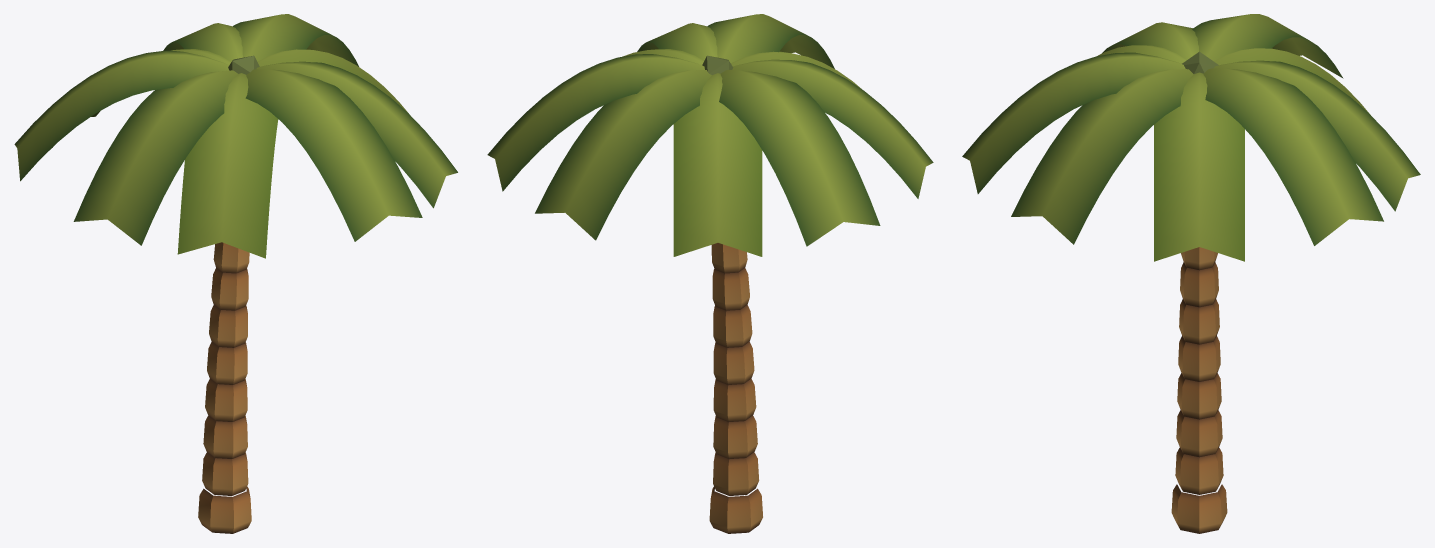
Rendered from palm-tall-v1.glb.
3 views of the same model, side by side, from view 1: azimuth 30°, elevation 25°; view 2: azimuth 150°, elevation 25°; view 3: azimuth 270°, elevation 25° (orthographic). The views are drawn at different scales.
Parts seen in each view (by area): view 1: palm-tall-v1-fronds, palm-tall-v1-trunk; view 2: palm-tall-v1-fronds, palm-tall-v1-trunk; view 3: palm-tall-v1-fronds, palm-tall-v1-trunk.
Part boxes in pixels (x1,y1,x2,y2): palm-tall-v1-fronds: [14, 14, 457, 258]; palm-tall-v1-trunk: [198, 55, 259, 533]; palm-tall-v1-fronds: [487, 14, 933, 256]; palm-tall-v1-trunk: [702, 55, 762, 533]; palm-tall-v1-fronds: [962, 14, 1420, 261]; palm-tall-v1-trunk: [1171, 51, 1227, 533].
Size of the model in its own units: 5.27 by 6.39 by 5.53.
